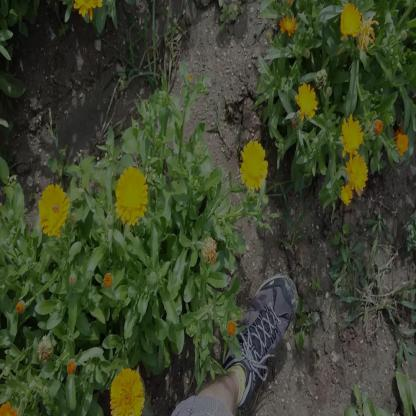marigold: (114, 166, 146, 227), (108, 366, 142, 415), (40, 184, 70, 239), (240, 138, 266, 190), (346, 151, 367, 192), (342, 115, 364, 150), (297, 81, 318, 117), (340, 4, 360, 35)
